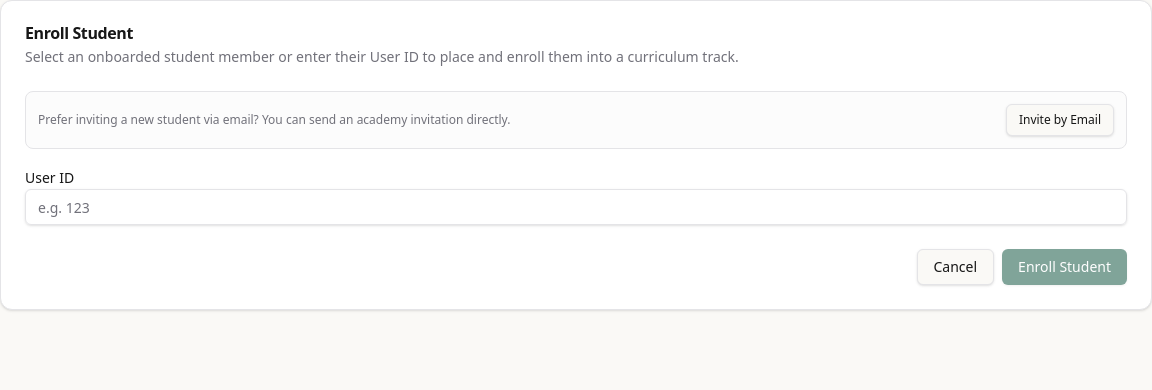
Scenario: Student Management › AddStudentForm › add unknown user shows validation error
The width and height of the screenshot is (1152, 390).
Type "999" into the number field labelled "User ID" at [576, 207], box top-left (25, 189), bottom-right (1127, 225)
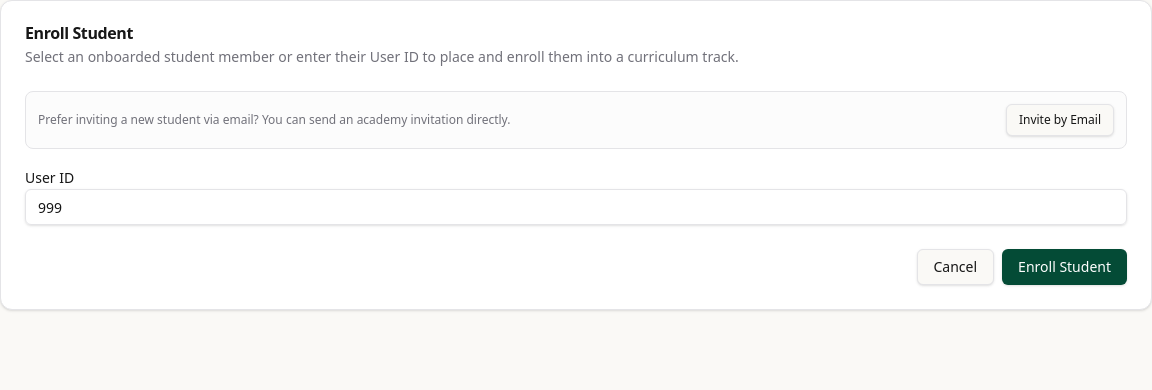
Click the button "Enroll Student" at [1065, 267], box top-left (1002, 249), bottom-right (1127, 285)
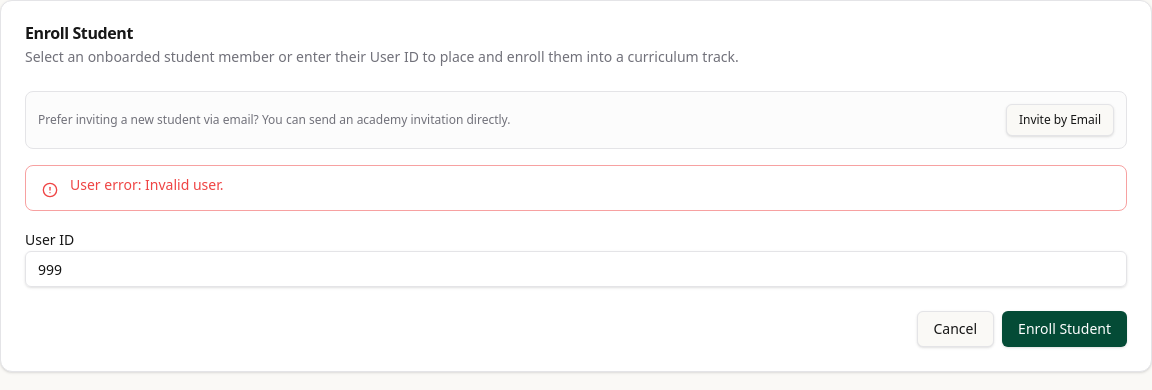
expect the text "User error: Invalid user." is shown: met, box top-left (70, 175), bottom-right (224, 194)
